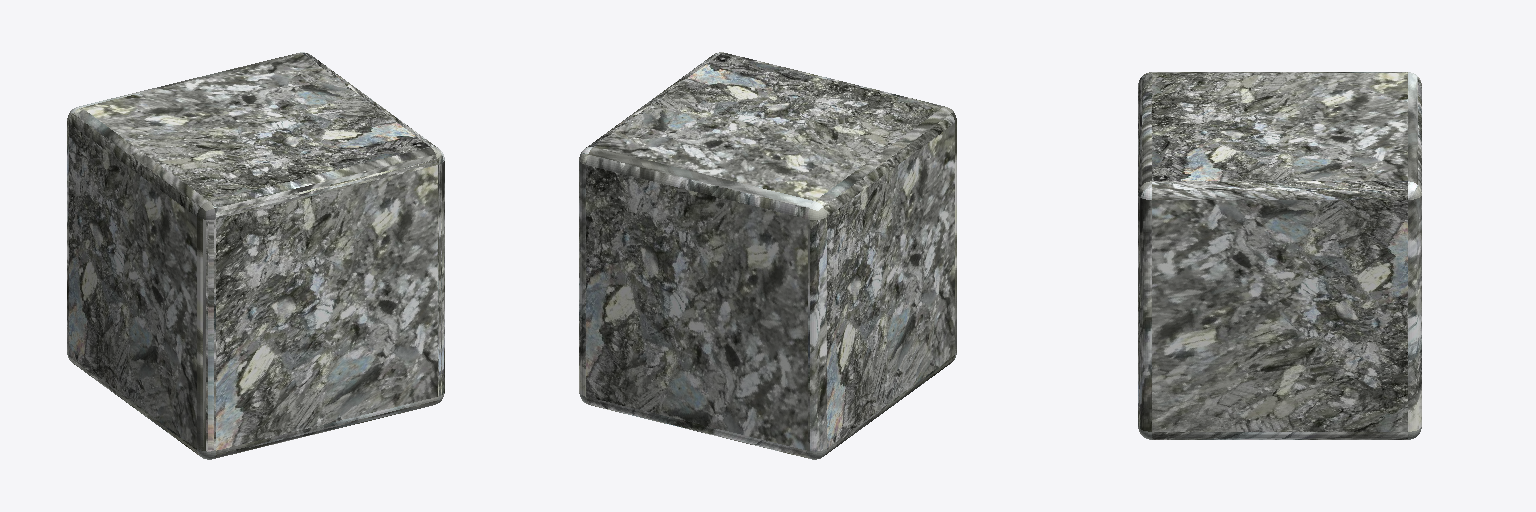
3 renders of one model, left to right at view 1: azimuth 30°, elevation 25°; view 2: azimuth 150°, elevation 25°; view 3: azimuth 270°, elevation 25°, orthographic.
Parts seen in each view (by area): view 1: Cube; view 2: Cube; view 3: Cube.
Part boxes in pixels (bbox=[...]): Cube: bbox=[67, 52, 444, 459]; Cube: bbox=[579, 52, 956, 459]; Cube: bbox=[1138, 72, 1421, 439].
Bounding box in the file's own units: 2 × 2 × 2.
1 materials, 1 textured.